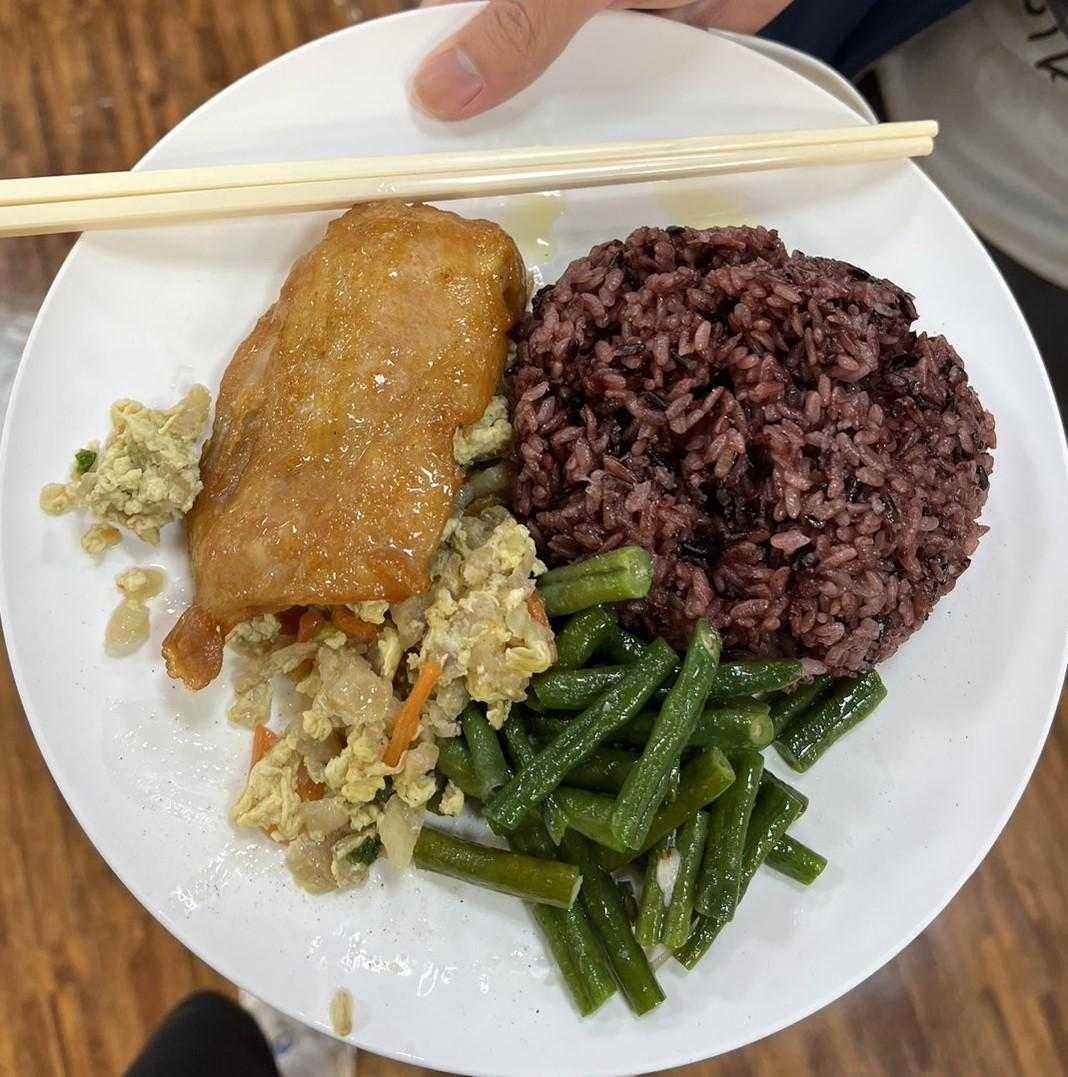big fried chicken leg: (0, 11, 1068, 1077)
braised fish: (500, 222, 992, 662)
braised fish fillet: (44, 385, 551, 886), (408, 546, 893, 1026)
braised pork: (180, 188, 528, 642)
